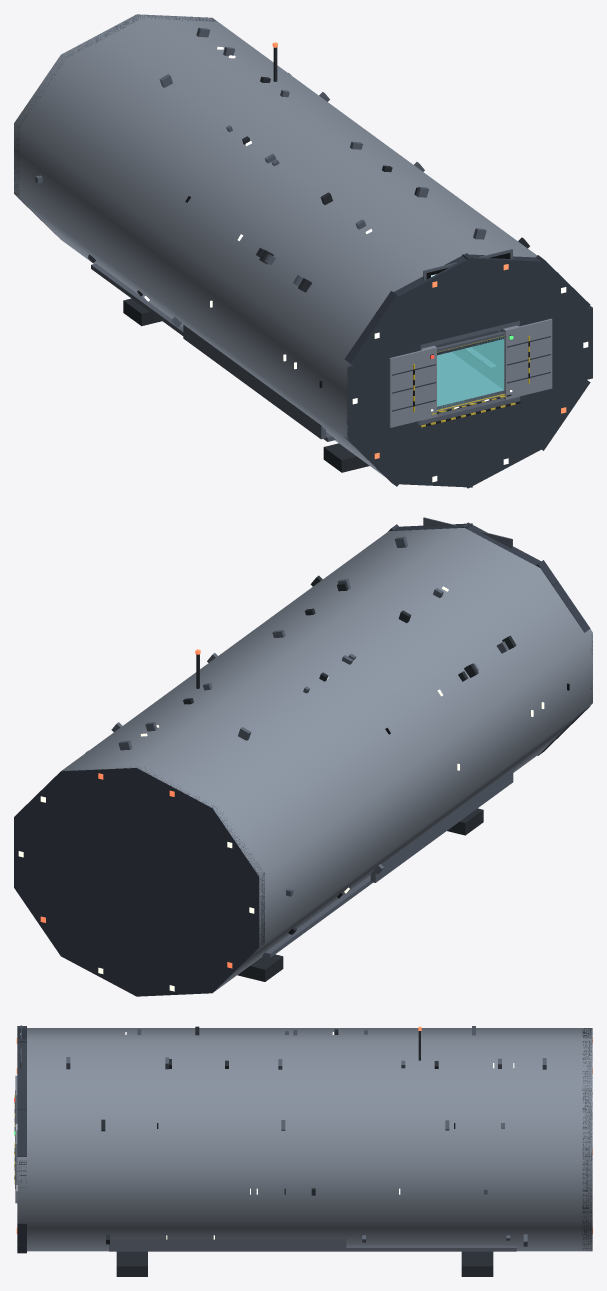
3 views of the same model, one above another, from view 1: azimuth 30°, elevation 25°; view 2: azimuth 150°, elevation 25°; view 3: azimuth 270°, elevation 25° (orthographic). The views are drawn at different scales.
Visible parts, largest first — view 1: shellOuter, endPlate0, endPlate8, endPlate4, endPlate6, endPlate9, berthLForceField, endPlate3, berthLBlastHouseR, berthLBlastHouseL, endPlate5, endPlate1 (+10 smaller); view 2: shellOuter, endCapAft, screenWallL, transferDeck, groundSaddleA, endPlate8; view 3: shellOuter, screenWallR, transferDeck, endCapAft, groundSaddleA, groundSaddleF, endPlate1, endPlate0.
Boxes of the visible parts, bbox=[...] form: shellOuter: bbox=[14, 14, 537, 477]; endPlate0: bbox=[455, 254, 543, 312]; endPlate8: bbox=[344, 291, 436, 388]; endPlate4: bbox=[455, 405, 543, 488]; endPlate6: bbox=[345, 397, 436, 486]; endPlate9: bbox=[393, 253, 482, 342]; berthLForceField: bbox=[437, 337, 504, 408]; endPlate3: bbox=[504, 357, 590, 450]; berthLBlastHouseR: bbox=[500, 318, 552, 399]; berthLBlastHouseL: bbox=[389, 345, 436, 427]; endPlate5: bbox=[398, 433, 482, 487]; endPlate1: bbox=[505, 255, 590, 347]; shellOuter: bbox=[61, 528, 592, 992]; endCapAft: bbox=[14, 766, 264, 996]; screenWallL: bbox=[370, 768, 513, 882]; transferDeck: bbox=[262, 875, 372, 957]; groundSaddleA: bbox=[237, 954, 283, 981]; endPlate8: bbox=[536, 560, 590, 632]; shellOuter: bbox=[17, 1028, 592, 1251]; screenWallR: bbox=[109, 1238, 346, 1250]; transferDeck: bbox=[109, 1245, 516, 1251]; endCapAft: bbox=[582, 1028, 592, 1250]; groundSaddleA: bbox=[461, 1251, 493, 1276]; groundSaddleF: bbox=[116, 1251, 147, 1276]; endPlate1: bbox=[17, 1087, 26, 1156]; endPlate0: bbox=[17, 1039, 26, 1087].
Size of the model in its own units: 25.64 by 26.47 by 58.82.
